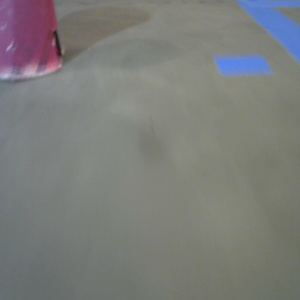middle: (1, 1, 65, 80)
